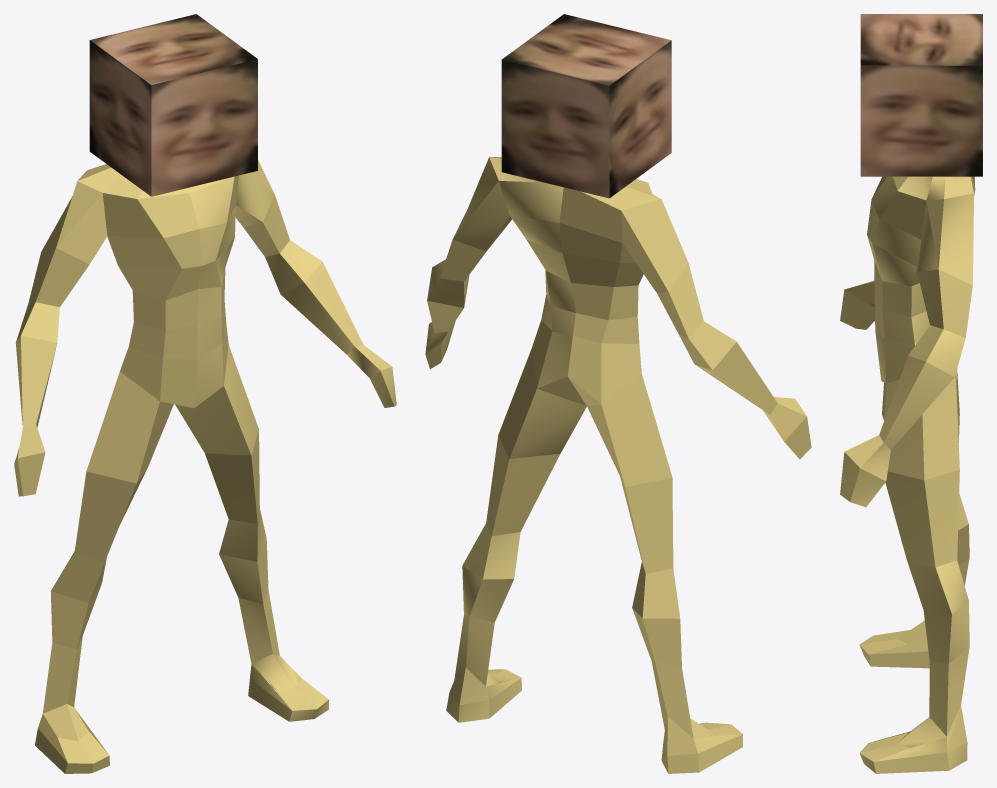
The model's file is totskiy.glb.
3 views of the same model, side by side, from view 1: azimuth 30°, elevation 25°; view 2: azimuth 150°, elevation 25°; view 3: azimuth 270°, elevation 25° (orthographic).
Parts seen in each view (by area): view 1: BASE_Low Poly Man.001, Cube; view 2: BASE_Low Poly Man.001, Cube; view 3: BASE_Low Poly Man.001, Cube.
Boxes of the visible parts, x1=… form: BASE_Low Poly Man.001: x1=14, y1=160, x2=396, y2=773; Cube: x1=89, y1=14, x2=257, y2=196; BASE_Low Poly Man.001: x1=425, y1=157, x2=811, y2=773; Cube: x1=501, y1=14, x2=671, y2=198; BASE_Low Poly Man.001: x1=840, y1=176, x2=975, y2=773; Cube: x1=860, y1=14, x2=982, y2=176.
Bounding box in the file's own units: 3.36 × 5.79 × 1.12.
Materials: 2 (1 with a texture image).
